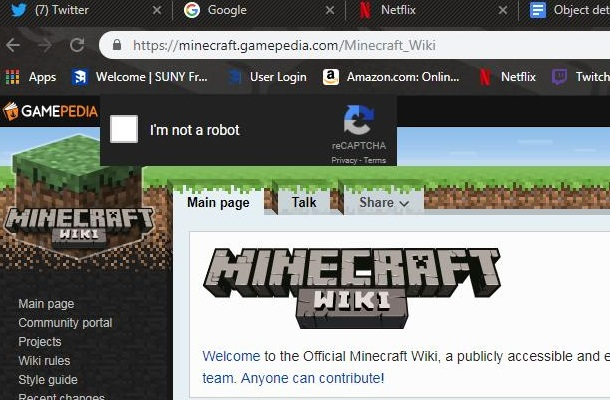captcha: (110, 114, 240, 143)
